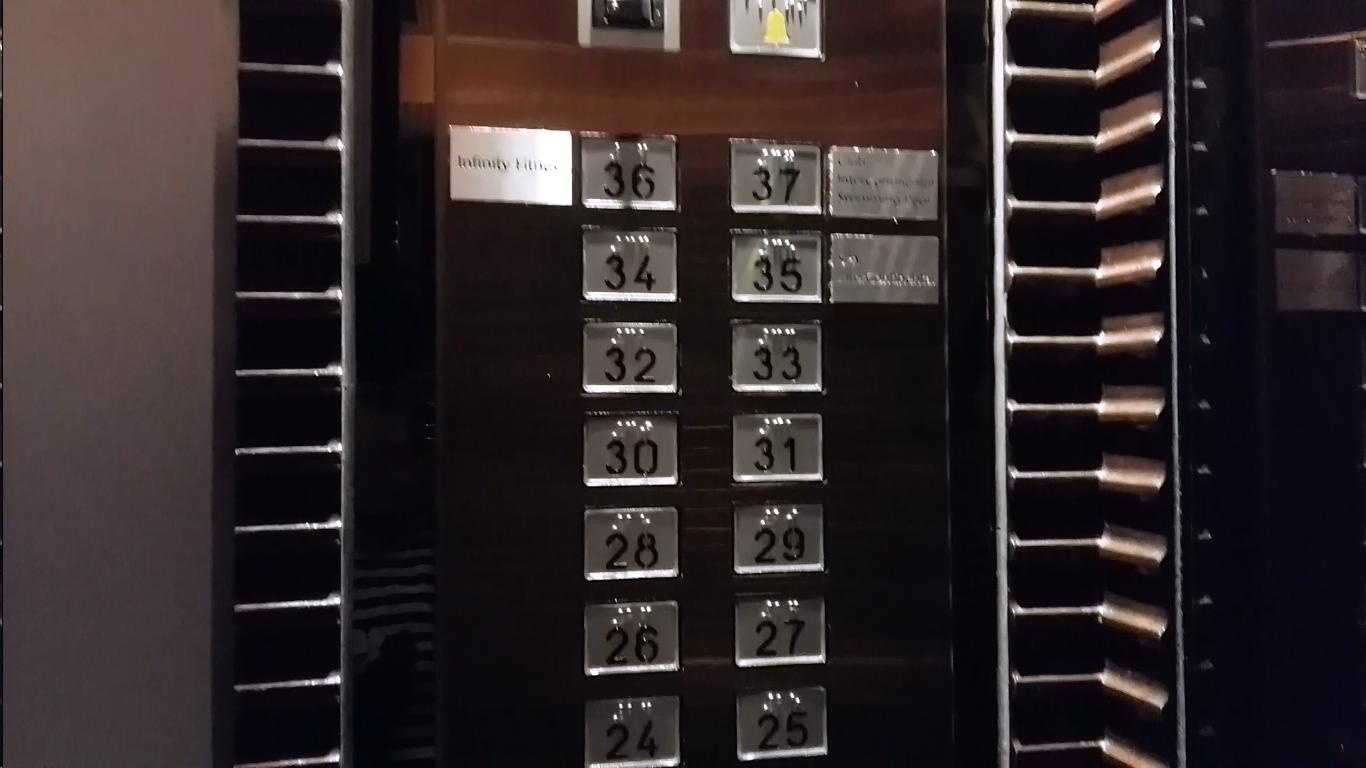24: (584, 689, 681, 768)
25: (731, 679, 831, 760)
26: (581, 594, 681, 675)
27: (728, 592, 828, 673)
28: (580, 502, 680, 583)
29: (729, 496, 829, 577)
30: (581, 406, 681, 487)
31: (727, 406, 827, 487)
32: (579, 315, 679, 396)
33: (727, 317, 827, 398)
34: (578, 223, 678, 304)
35: (725, 225, 825, 306)
36: (581, 132, 681, 213)
37: (724, 135, 824, 216)
alarm: (725, 1, 831, 62)
